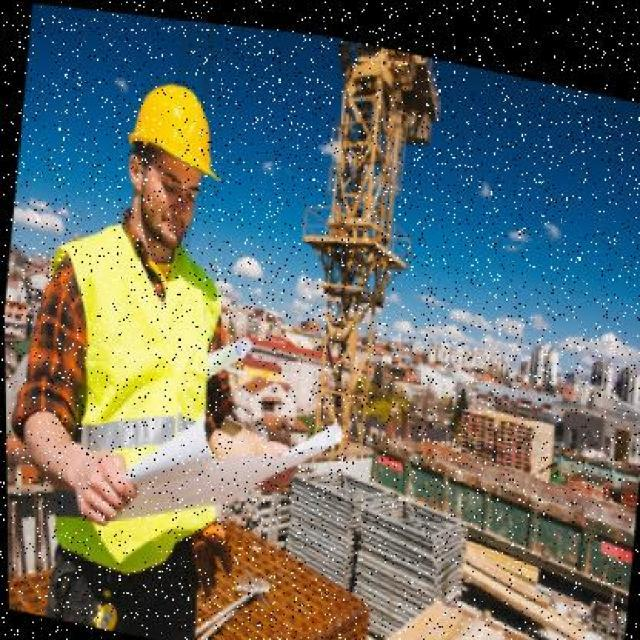helmet: (125, 72, 234, 177)
vest: (34, 206, 235, 590)
